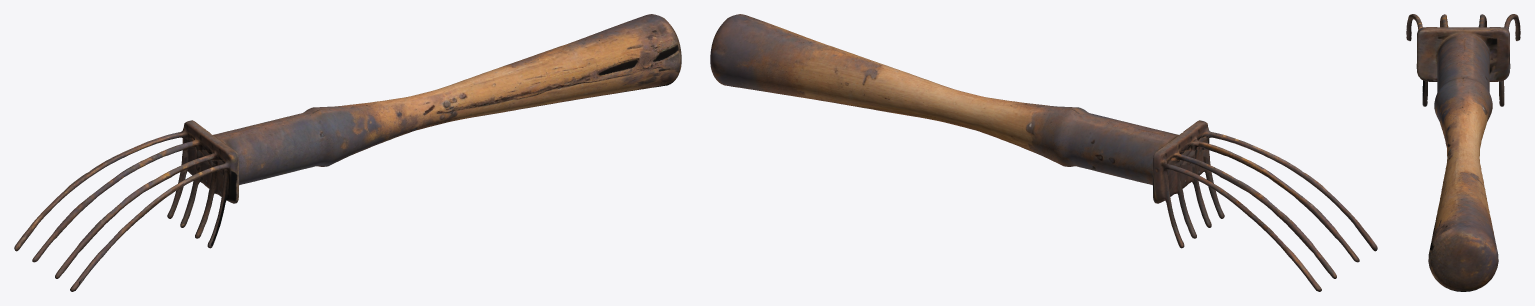
File: sandrake.fbx
3 views of the same model, side by side, from view 1: azimuth 30°, elevation 25°; view 2: azimuth 150°, elevation 25°; view 3: azimuth 270°, elevation 25° (orthographic). The views are drawn at different scales.
Visible parts, largest first — view 1: Mesh_0; view 2: Mesh_0; view 3: Mesh_0.
Boxes of the visible parts, left/top/right/bottom form: Mesh_0: left=14, top=14, right=681, bottom=291; Mesh_0: left=710, top=14, right=1377, bottom=291; Mesh_0: left=1406, top=14, right=1520, bottom=291.
Size of the model in its own units: 200 by 32.09 by 32.85.
1 material, 1 textured.
